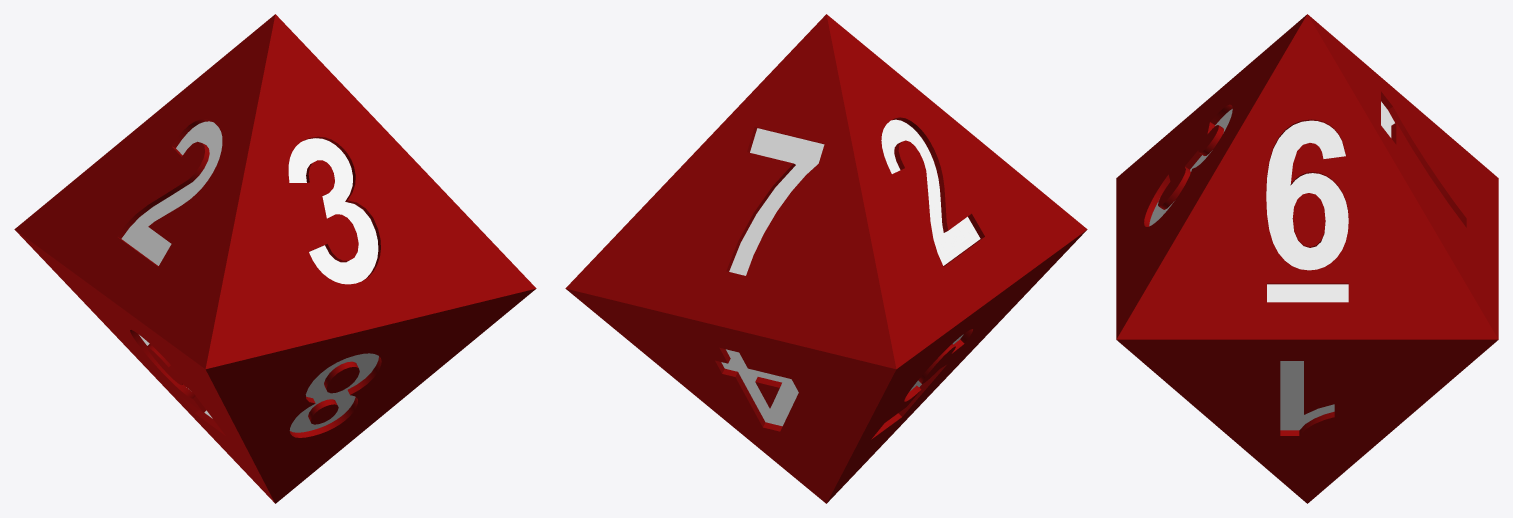
File: Boardgame_Dice_D8_Red_01.fbx
3 renders of one model, left to right at view 1: azimuth 30°, elevation 25°; view 2: azimuth 150°, elevation 25°; view 3: azimuth 270°, elevation 25°, orthographic.
Visible parts, largest first — view 1: Boardgame_Dice_D8_Red_01; view 2: Boardgame_Dice_D8_Red_01; view 3: Boardgame_Dice_D8_Red_01.
Boxes of the visible parts, box(x1,y1,x2,y2) form: Boardgame_Dice_D8_Red_01: box(14, 14, 536, 503); Boardgame_Dice_D8_Red_01: box(565, 14, 1087, 503); Boardgame_Dice_D8_Red_01: box(1116, 14, 1498, 503).
Size of the model in its own units: 42 by 59.39 by 42.
